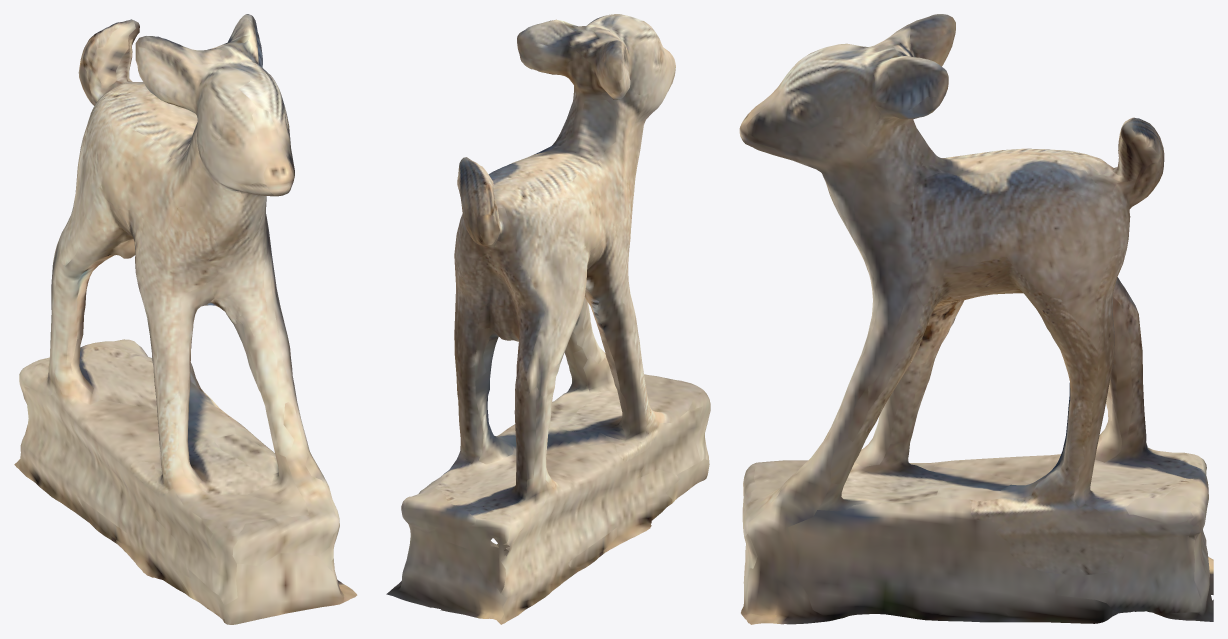
File: gazelle_statue.glb
The picture shows the model from 3 angles, left to right: view 1: azimuth 30°, elevation 25°; view 2: azimuth 150°, elevation 25°; view 3: azimuth 270°, elevation 25°; orthographic projection. The views are drawn at different scales.
Parts seen in each view (by area): view 1: Object_2; view 2: Object_2; view 3: Object_2.
Boxes of the visible parts, box(x1,y1,x2,y2) form: Object_2: box(14, 14, 357, 624); Object_2: box(386, 14, 710, 624); Object_2: box(739, 14, 1213, 624).
Bounding box in the file's own units: 0.4623 × 1.68 × 1.31.
Materials: 1 (1 with a texture image).
